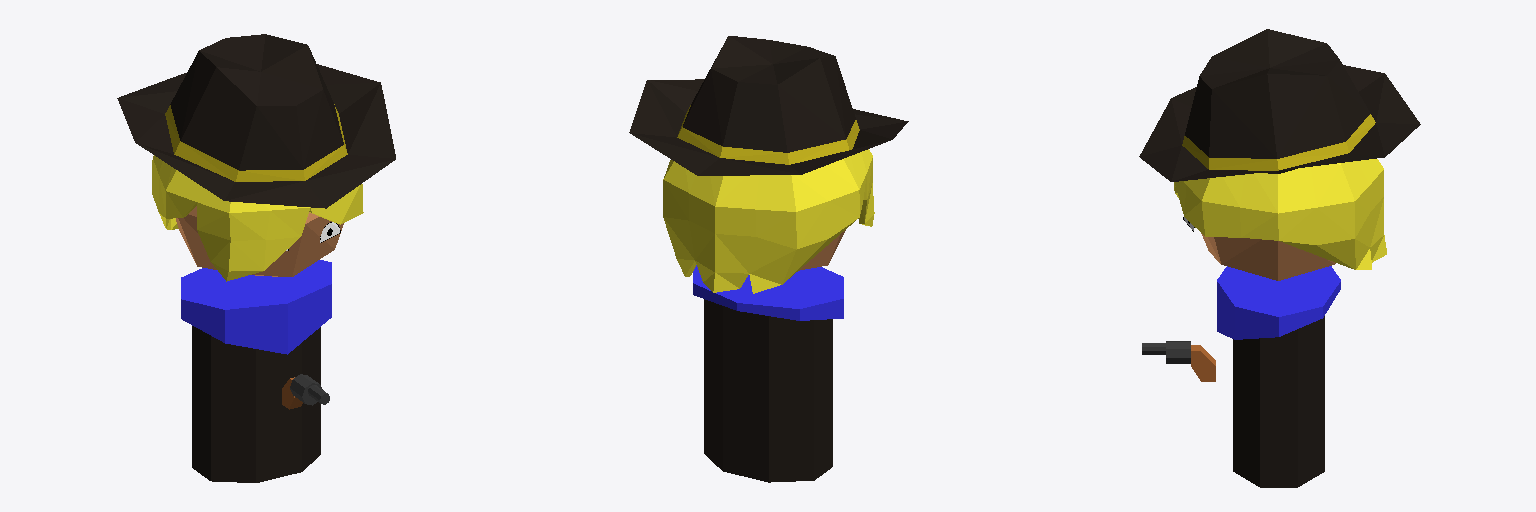
3 views of the same model, side by side, from view 1: azimuth 30°, elevation 25°; view 2: azimuth 150°, elevation 25°; view 3: azimuth 270°, elevation 25° (orthographic).
Visible parts, largest first — view 1: 円柱.001, Hat, 円柱.002; view 2: 円柱.001, Hat; view 3: 円柱.001, Hat, 円柱.002.
Boxes of the visible parts, <box> form: 円柱.001: <box>152,155,363,482</box>; Hat: <box>117,34,395,208</box>; 円柱.002: <box>176,206,343,276</box>; 円柱.001: <box>663,149,874,482</box>; Hat: <box>629,36,908,175</box>; 円柱.001: <box>1142,159,1386,487</box>; Hat: <box>1139,29,1420,181</box>; 円柱.002: <box>1201,233,1335,280</box>.
Bounding box in the file's own units: 2.3 × 3.66 × 2.28.
Materials: 3 (3 with a texture image).